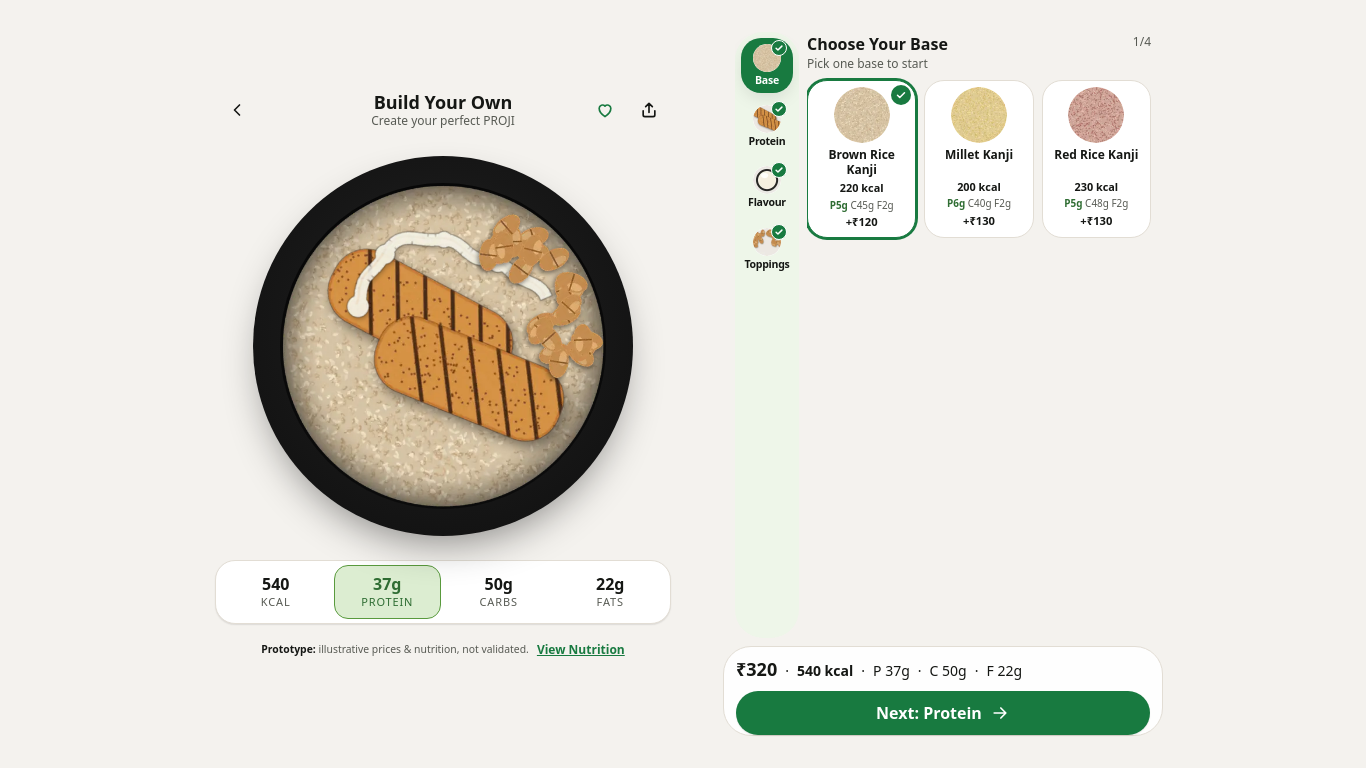
Test: U-07 save from the builder › saves the canonical configuration (IDs only) under a validated name
Click the button named "Save bowl".
click(605, 110)  # box [583,88,627,132]
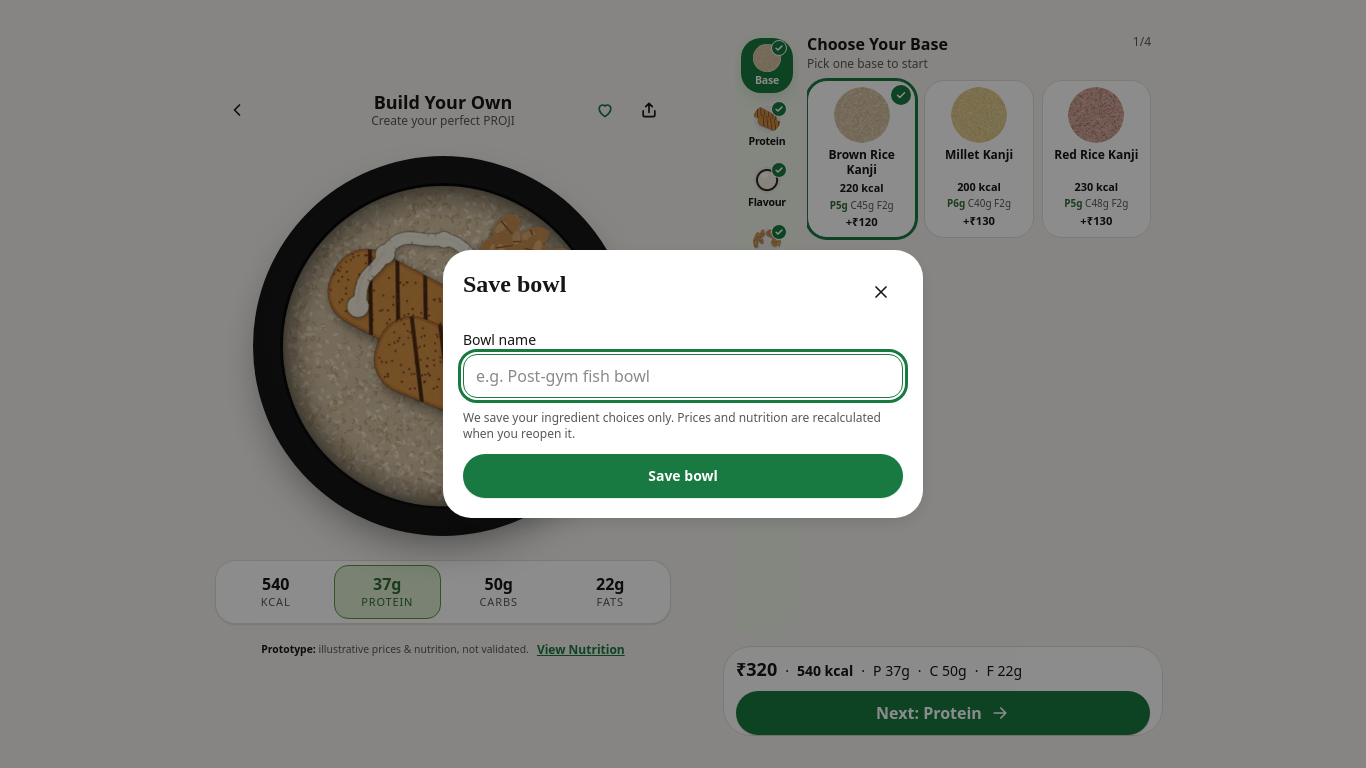
Click the button "Save bowl".
click(683, 476)  # box [463,454,903,498]
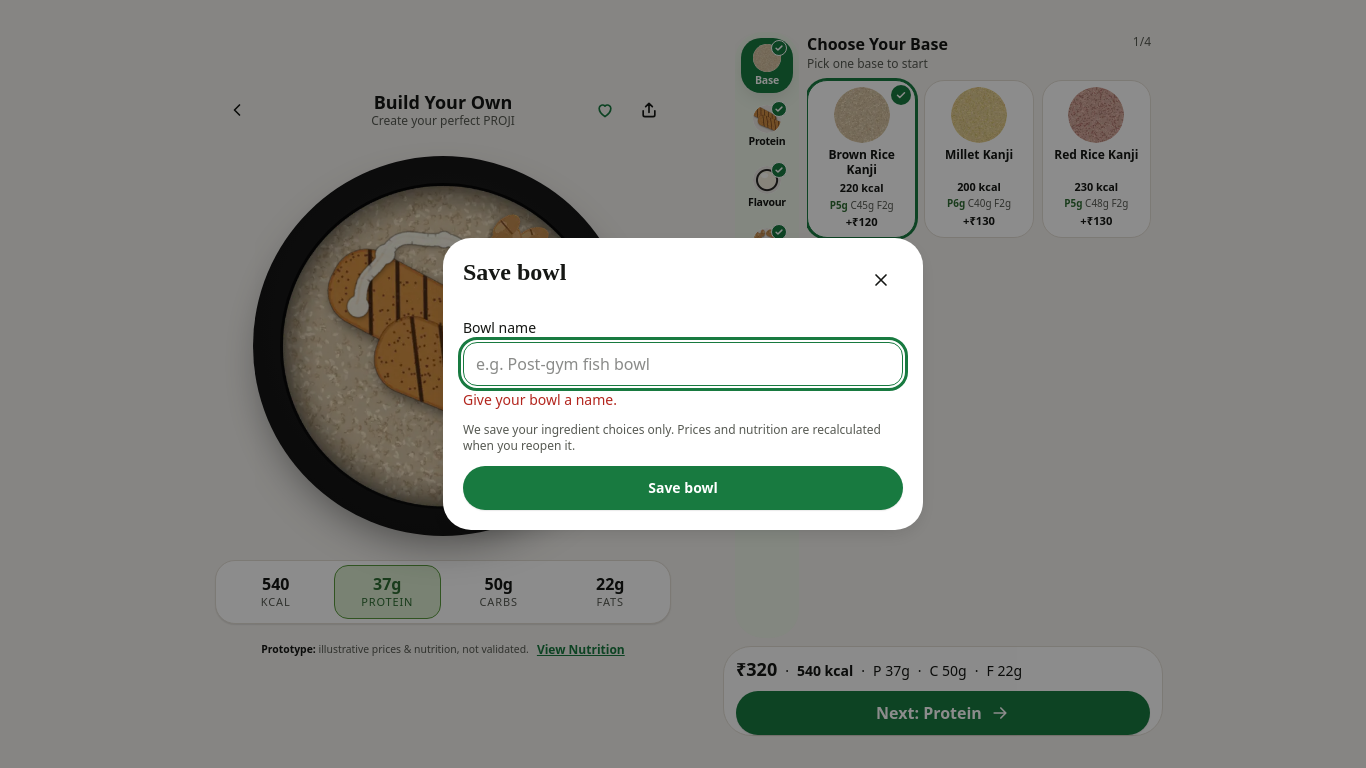
Type "Post-gym" into the field labelled "Bowl name".
click(683, 364); type("Post-gym")  # box [463,342,903,386]
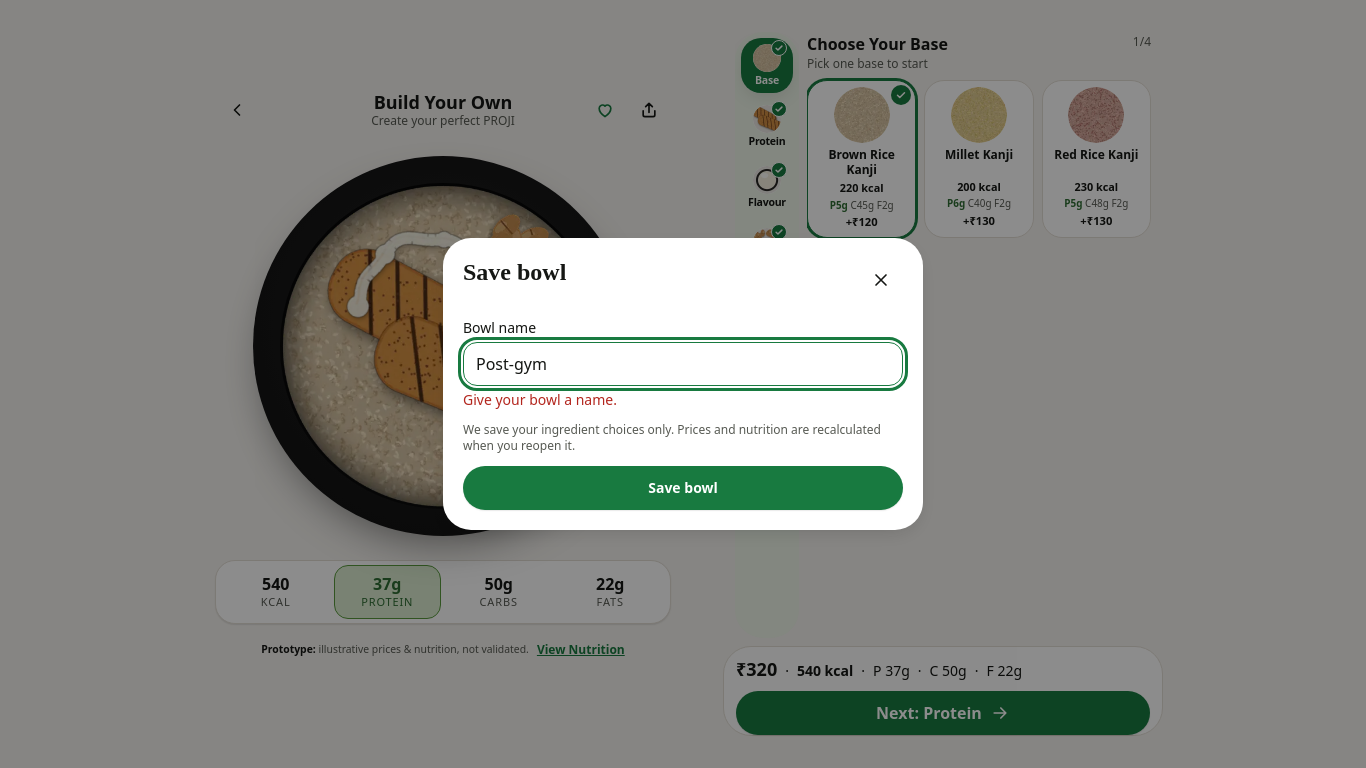
Click the button "Save bowl".
click(683, 488)  # box [463,466,903,510]
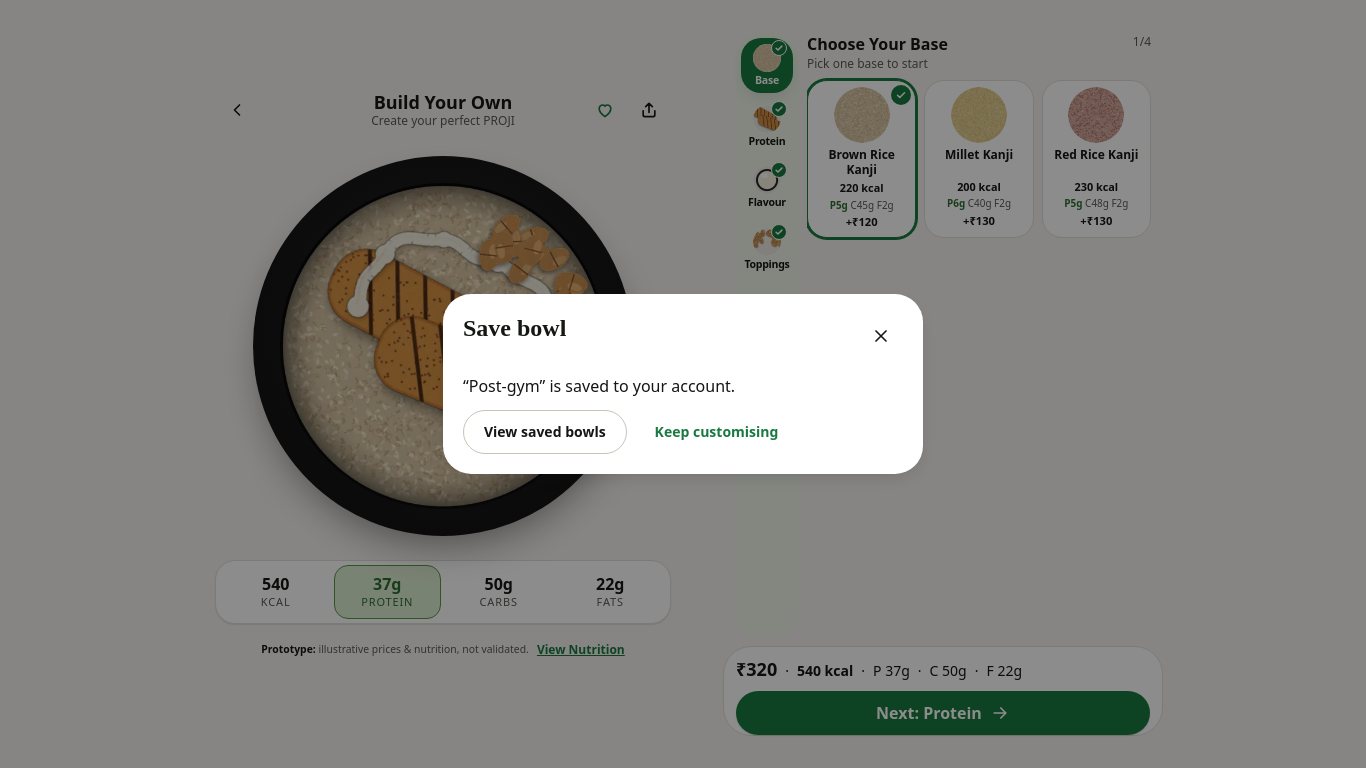
Check: the text "“Post-gym” is saved to your account." is shown, box [463,375,735,397]
